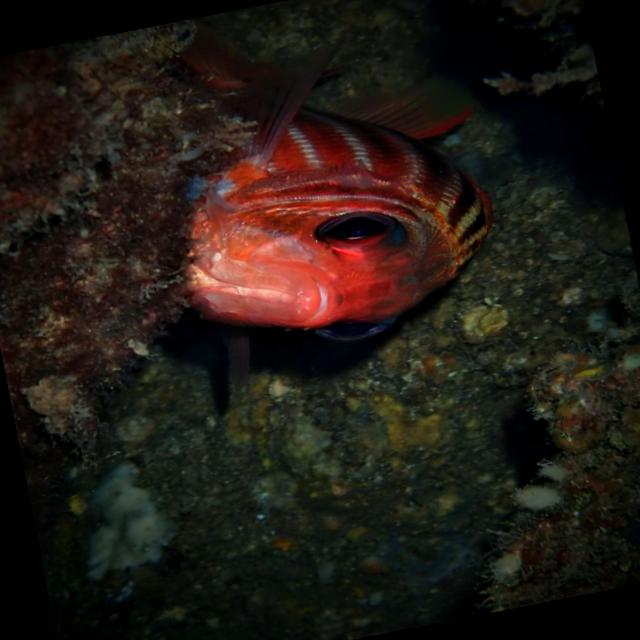Asker Baligi: (134, 0, 518, 373)
